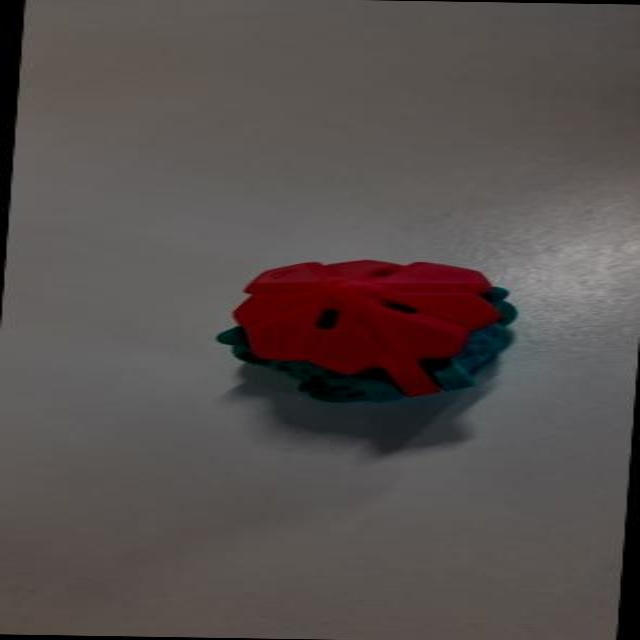House: (208, 246, 536, 416)
